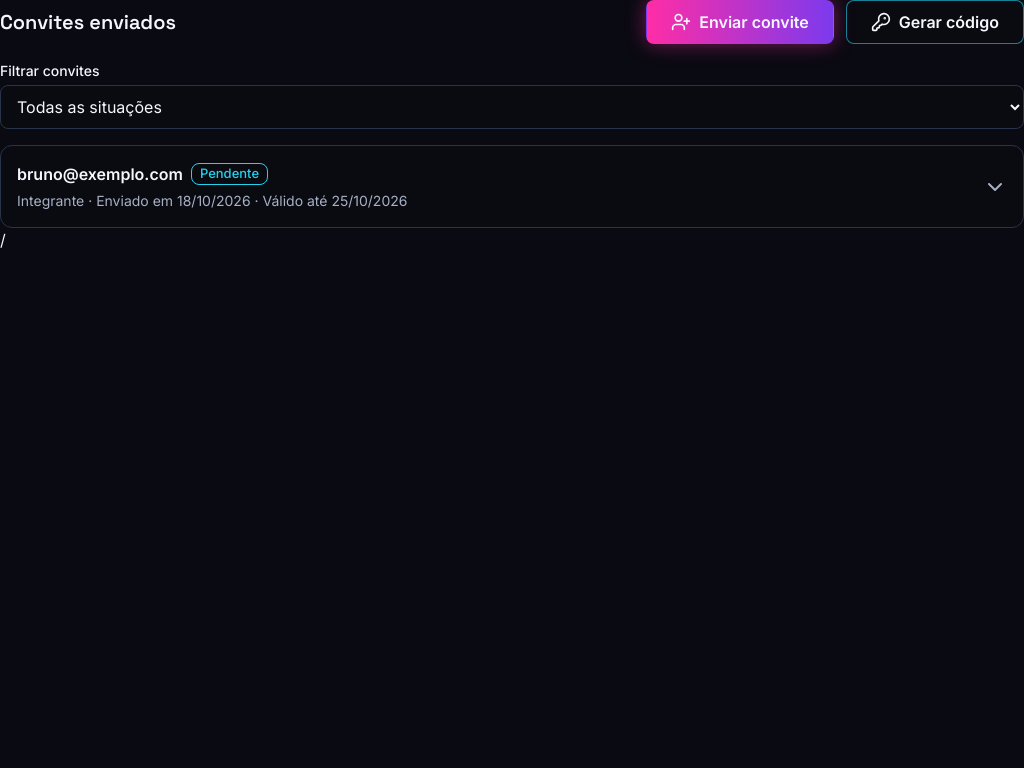
SentInvitesPanel (FAM-005, D-FAM-009) › Enviar convite (modal) › erros do servidor (duplicado/ja integrante) aparecem no modal, que continua aberto
expect the text "bruno@exemplo.com" is shown: met, box [17,164,183,184]
Click the button "Enviar convite": {"x": 740, "y": 22} [646,0,834,44]
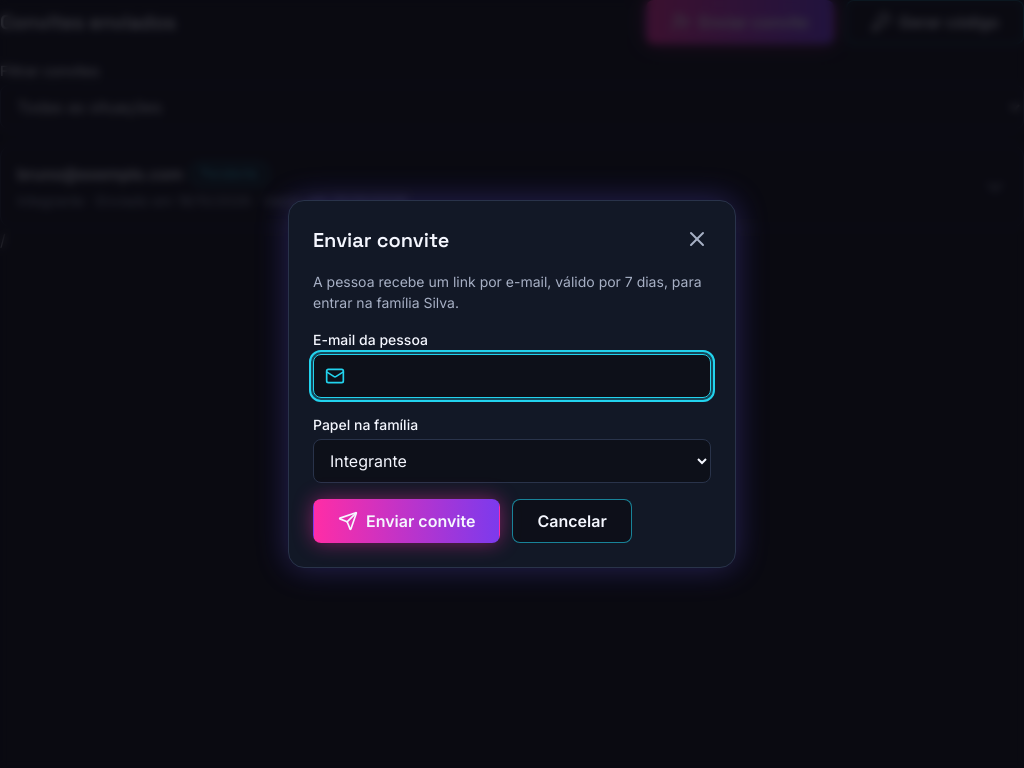
In the field labelled "E-mail da pessoa": {"x": 512, "y": 376} [313,354,711,398], type "bruno@exemplo.com"
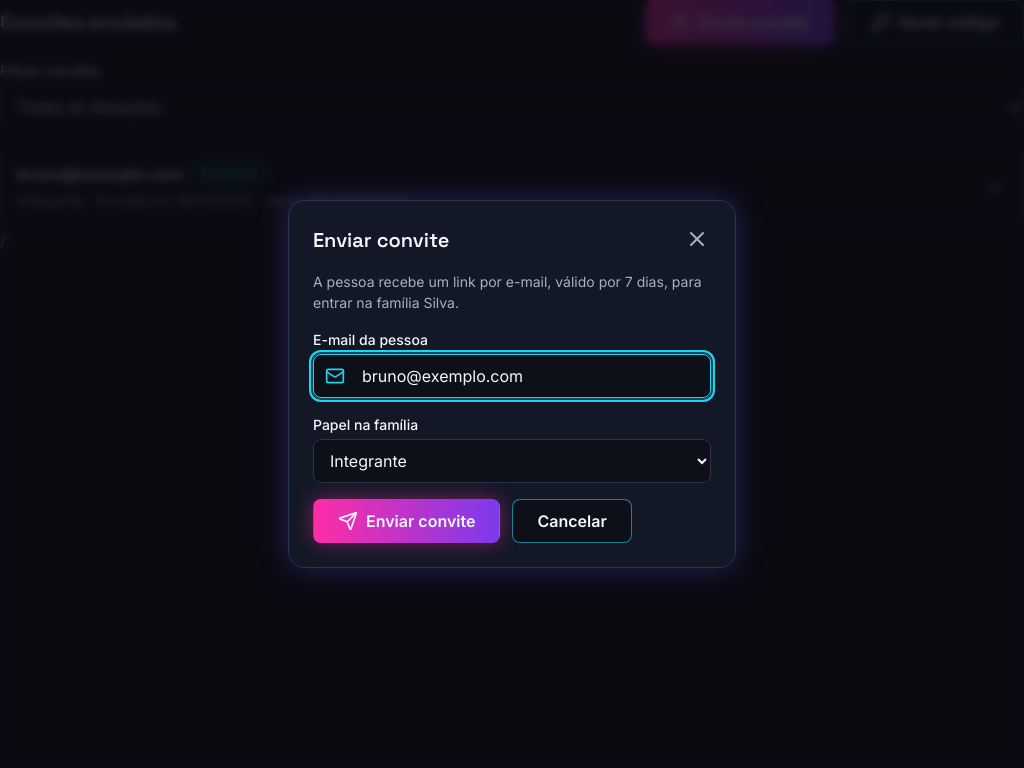
Click the button "Enviar convite": {"x": 407, "y": 521} [313,499,500,543]
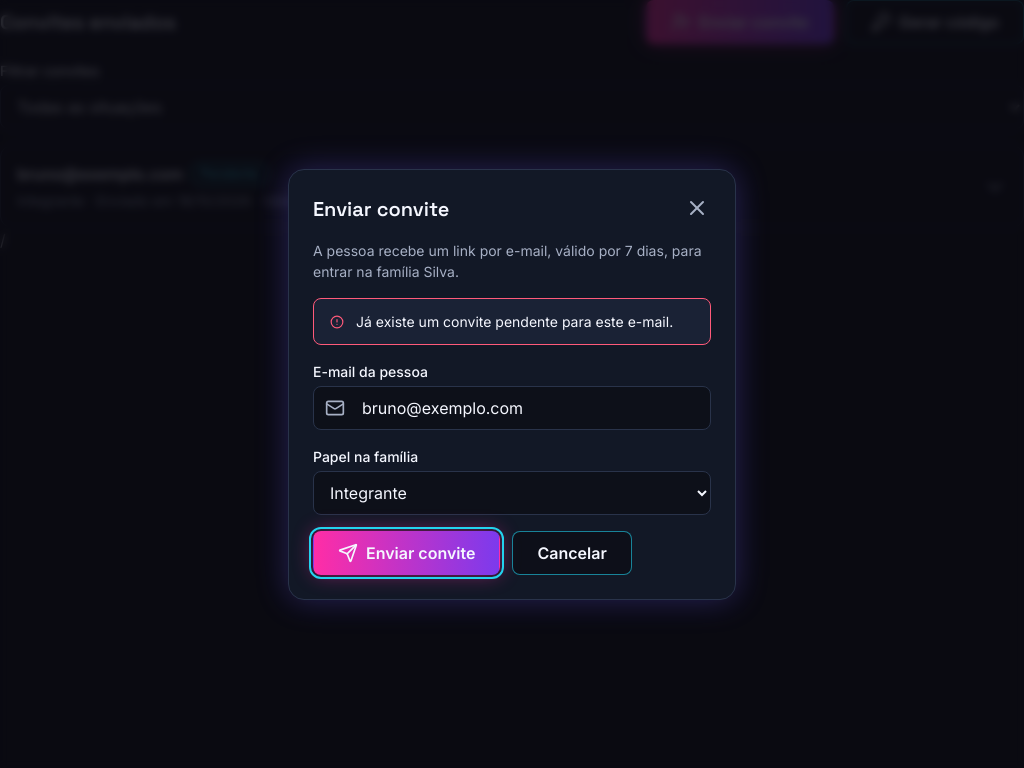
expect the dialog is shown: met, box [288,168,736,600]
expect the message shows "Já existe um convite pendente": met, box [356,312,673,330]
